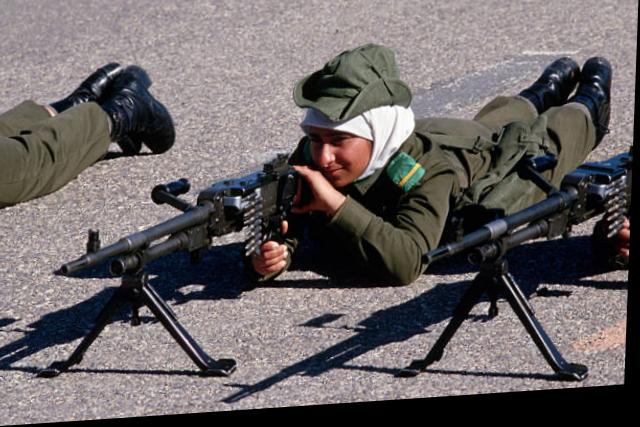other: (259, 33, 606, 287), (0, 54, 174, 204)
